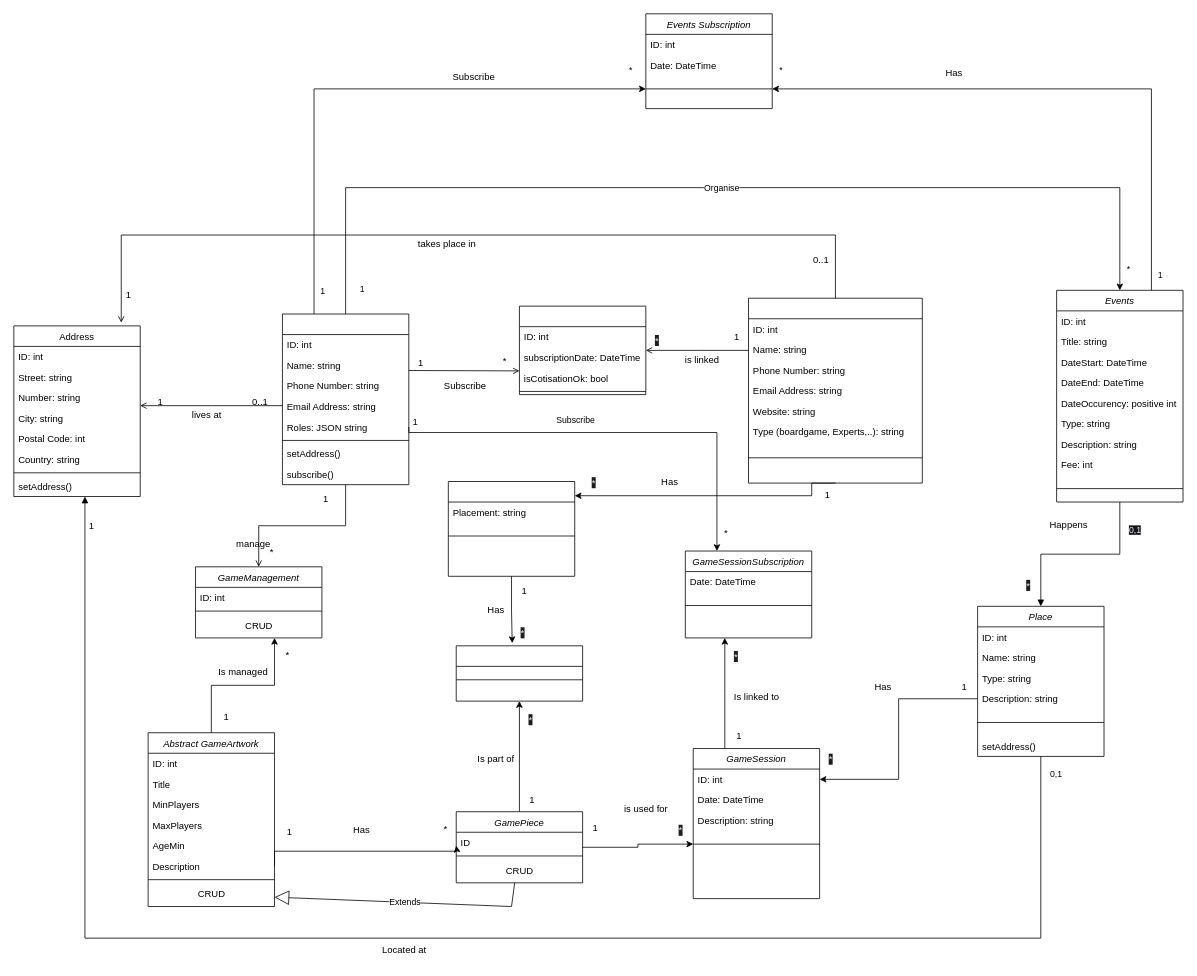
This 1197x976 diagram has some shape labels left out. Here are the shapes that lost their labels. From the top down, the box of each, then its label:
(519, 305, 646, 395): Club Subscription
(282, 313, 409, 485): User
(748, 297, 922, 483): Club
(448, 481, 575, 576): Club's game Library
(455, 645, 583, 701): ClubgameLibraryHistoric
